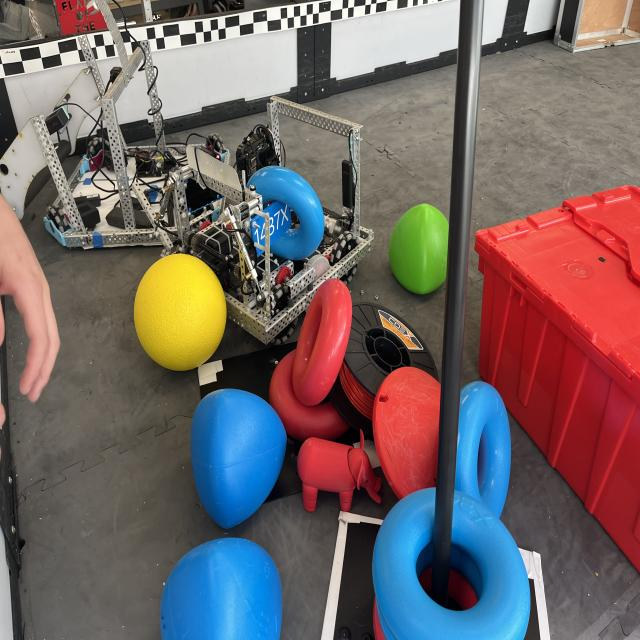Blue-Ring: (372, 488, 530, 638), (455, 382, 511, 518), (248, 167, 325, 260)
Red-Ring: (292, 278, 352, 405), (269, 350, 349, 442)
